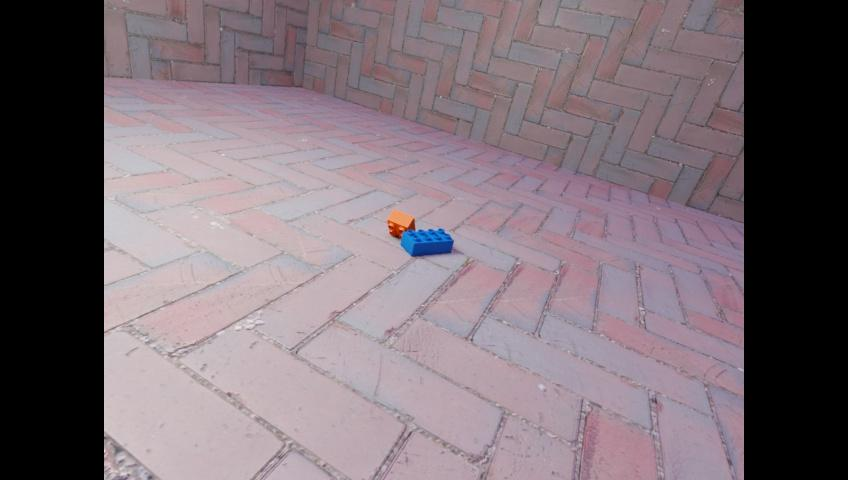2x2_orange: (387, 209, 414, 238)
4x2_blue: (400, 228, 453, 256)
